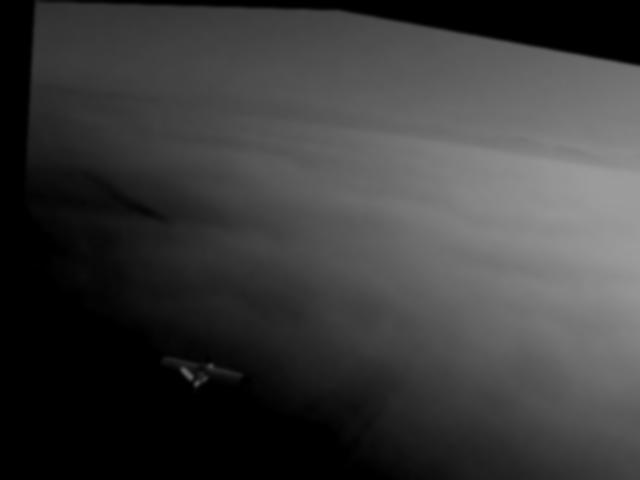hedef: (134, 338, 251, 407)
